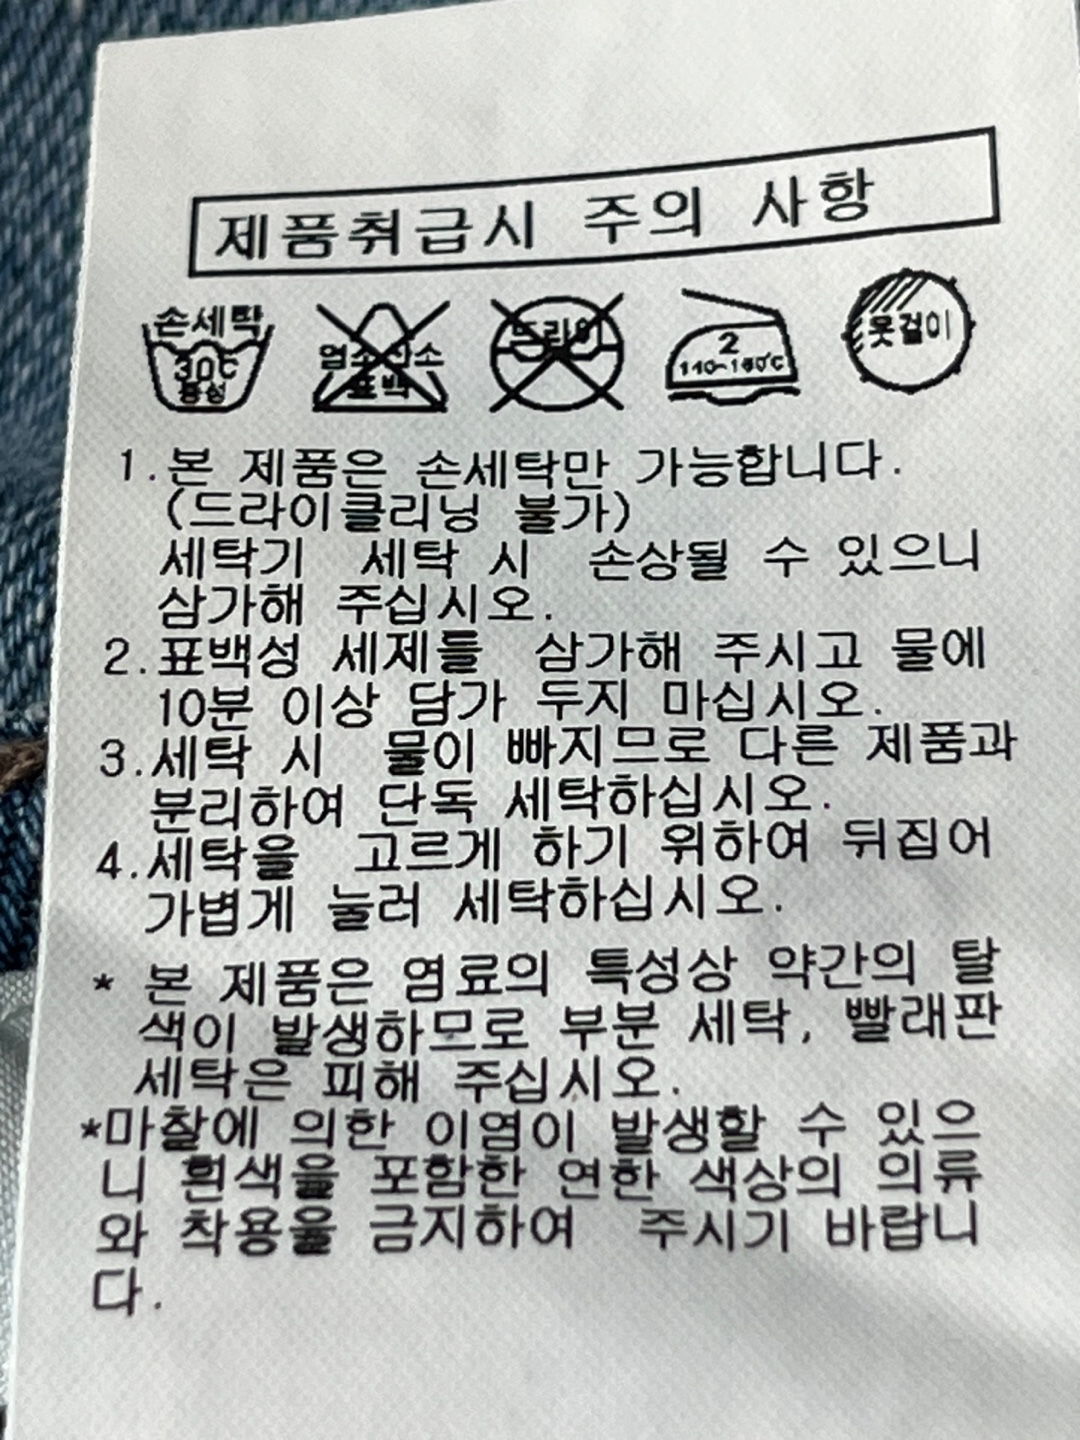DN_bleach: (293, 286, 464, 426)
DN_dry_clean: (476, 283, 638, 423)
hand_wash: (130, 296, 281, 424)
iron_low: (659, 276, 810, 412)
line_dry_in_shade: (833, 255, 990, 407)
